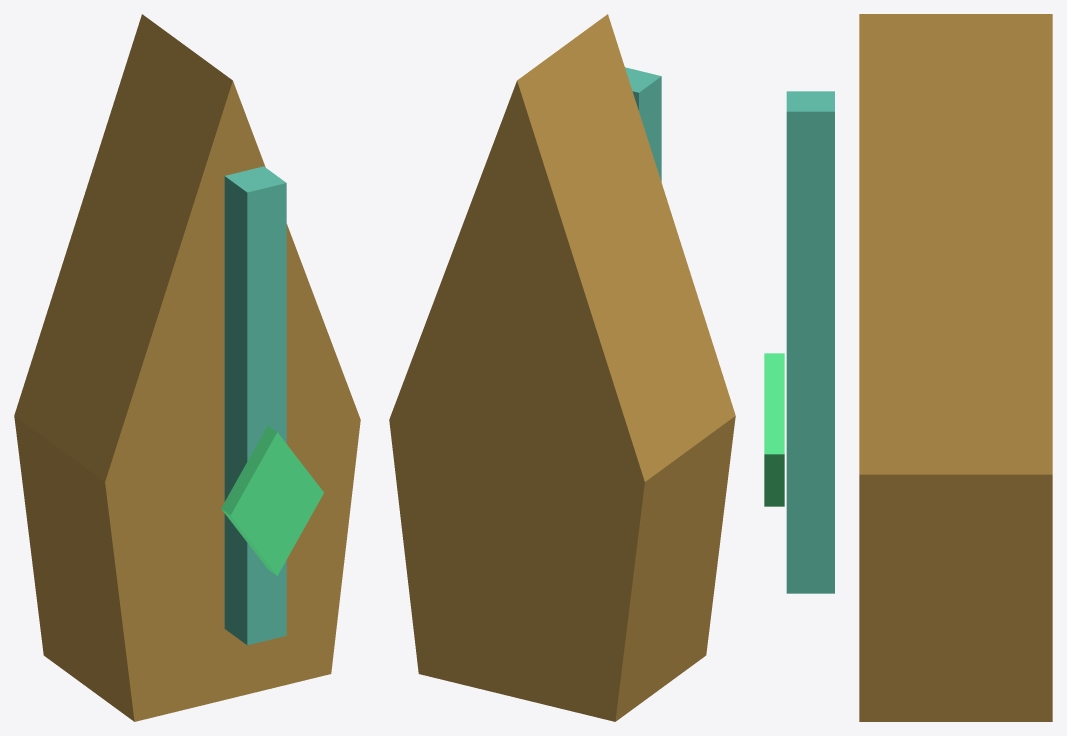
Rendered from heaven_sword_spire.obj.
3 renders of one model, left to right at view 1: azimuth 30°, elevation 25°; view 2: azimuth 150°, elevation 25°; view 3: azimuth 270°, elevation 25°, orthographic. The views are drawn at different scales.
Visible parts, largest first — view 1: heaven_sword, heaven_sword_edge, sword_spire_edge, sword_spire_edge_edge, sword_spire_core, sword_spire_core_edge; view 2: heaven_sword, heaven_sword_edge, sword_spire_edge_edge; view 3: heaven_sword_edge, sword_spire_edge_edge, sword_spire_core_edge.
Boxes of the visible parts, x1,y1,x2,y2 form: heaven_sword: [105, 81, 360, 721]; heaven_sword_edge: [14, 14, 232, 721]; sword_spire_edge: [247, 183, 286, 645]; sword_spire_edge_edge: [224, 166, 285, 644]; sword_spire_core: [230, 432, 323, 575]; sword_spire_core_edge: [221, 425, 277, 575]; heaven_sword: [389, 81, 644, 721]; heaven_sword_edge: [517, 14, 735, 721]; sword_spire_edge_edge: [625, 67, 661, 181]; heaven_sword_edge: [859, 14, 1052, 721]; sword_spire_edge_edge: [786, 91, 834, 593]; sword_spire_core_edge: [764, 353, 784, 506].
Size of the model in its own units: 0.26 by 0.6 by 0.2384.
